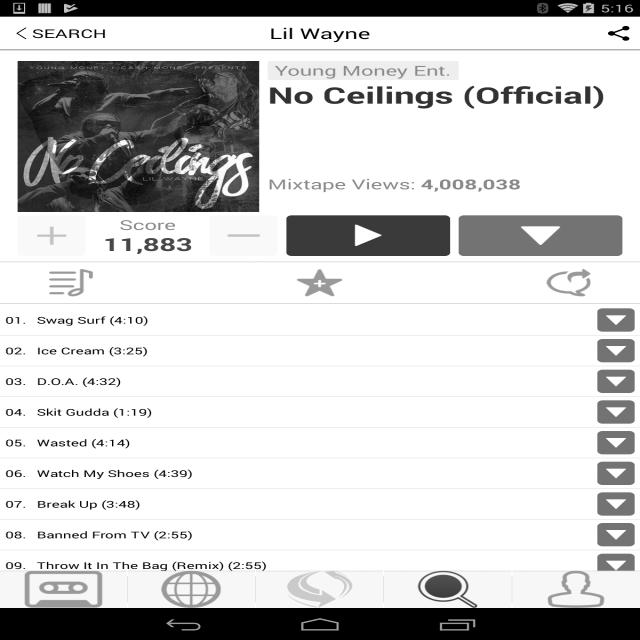ImageButton: (142, 269, 497, 296), (287, 215, 450, 256), (459, 215, 622, 256), (497, 268, 640, 296), (0, 269, 142, 296), (17, 215, 86, 256), (209, 215, 278, 256), (597, 308, 635, 332), (597, 400, 635, 424), (597, 492, 635, 516), (597, 339, 635, 362), (597, 370, 635, 393), (597, 431, 635, 454), (597, 462, 635, 485), (597, 523, 635, 546), (597, 554, 635, 577)
ImageView: (18, 61, 259, 212), (270, 571, 370, 608), (23, 571, 104, 608), (542, 571, 610, 608), (414, 571, 481, 608), (158, 571, 224, 608), (11, 24, 32, 44), (608, 25, 629, 42)
ProgressBar: (459, 215, 622, 256), (597, 308, 635, 332), (597, 400, 635, 424), (597, 492, 635, 516), (597, 339, 635, 362), (597, 370, 635, 393), (597, 431, 635, 454), (597, 462, 635, 485), (597, 523, 635, 546), (597, 554, 635, 577)
TextView: (268, 80, 605, 110), (36, 344, 586, 357), (36, 375, 586, 388), (36, 436, 586, 449), (36, 467, 586, 480), (36, 528, 586, 541), (36, 559, 586, 572), (36, 314, 586, 326), (36, 406, 586, 418), (36, 498, 586, 510), (268, 175, 521, 193), (267, 61, 458, 80), (103, 232, 192, 256), (269, 23, 370, 43), (32, 25, 107, 41), (119, 215, 176, 234), (5, 344, 26, 357), (5, 375, 26, 388), (5, 436, 26, 449), (5, 467, 26, 480), (5, 528, 26, 541), (5, 559, 26, 572), (5, 314, 26, 326), (5, 406, 26, 418), (5, 498, 26, 510)
